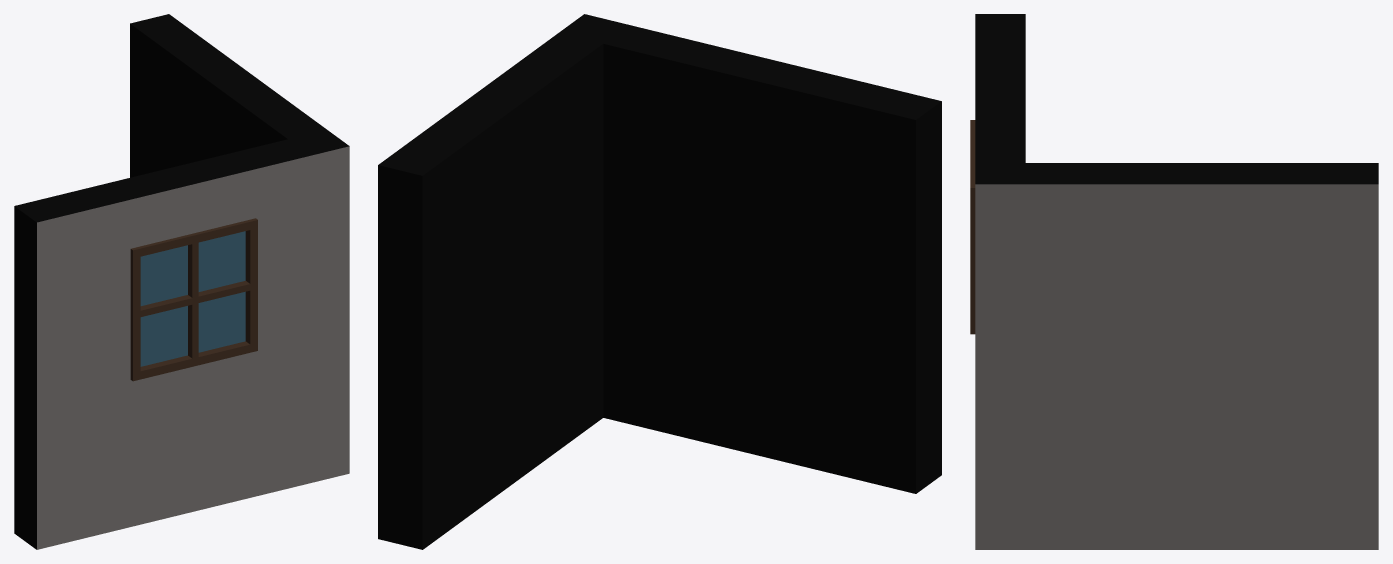
3 views of the same model, side by side, from view 1: azimuth 30°, elevation 25°; view 2: azimuth 150°, elevation 25°; view 3: azimuth 270°, elevation 25° (orthographic). The views are drawn at different scales.
Visible parts, largest first — view 1: floor_wall.033; view 2: floor_wall.033; view 3: floor_wall.033.
Boxes of the visible parts, left/top/right/bottom form: floor_wall.033: left=14, top=14, right=349, bottom=549; floor_wall.033: left=378, top=14, right=941, bottom=549; floor_wall.033: left=970, top=14, right=1378, bottom=549.
Size of the model in its own units: 200 by 200 by 202.
